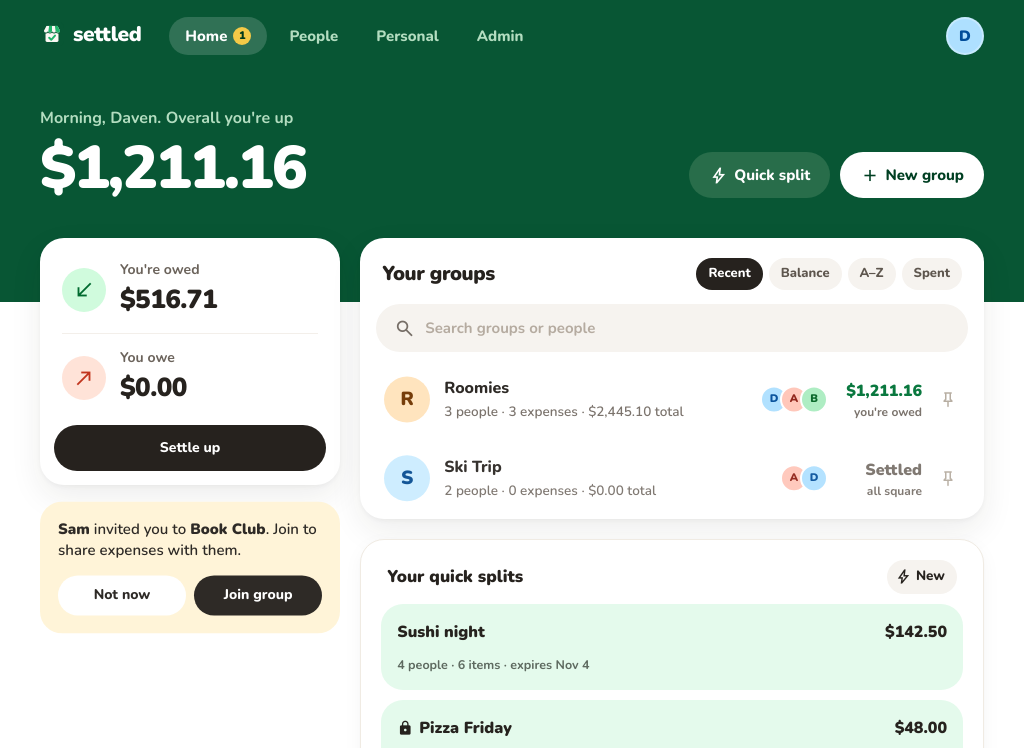
it: signed in: from Home to a saved expense › opens a group, adds an expense split with everyone, saves it, and sees it in the list and the total
Check: the heading "Morning, Daven. Overall you're up" is shown, box [40,106,306,130]
Click the button "Roomies" at {"x": 649, "y": 400}, box [370,364,928,435]
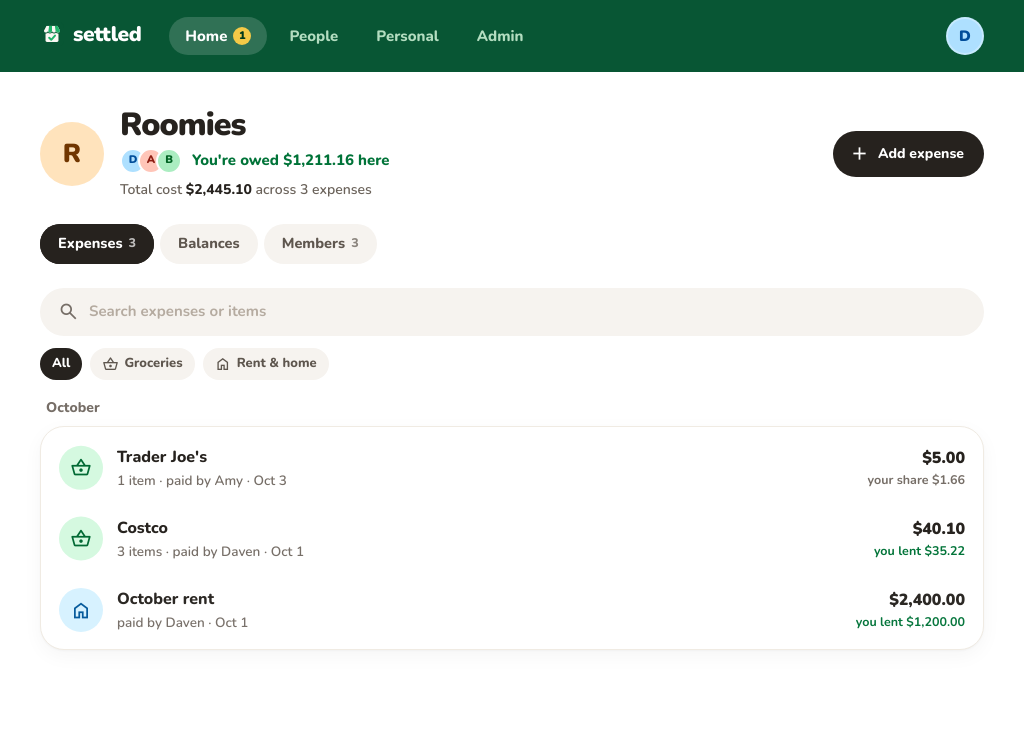
Check: the text "$2,445.10" is shown, box [186,180,252,199]
Check: the heading "Roomies" is shown, box [120,103,246,146]
# Add an expense: it opens as a draft, nothing is in the list yet
Click the button "Add expense" at {"x": 908, "y": 154}, box [833,131,984,177]
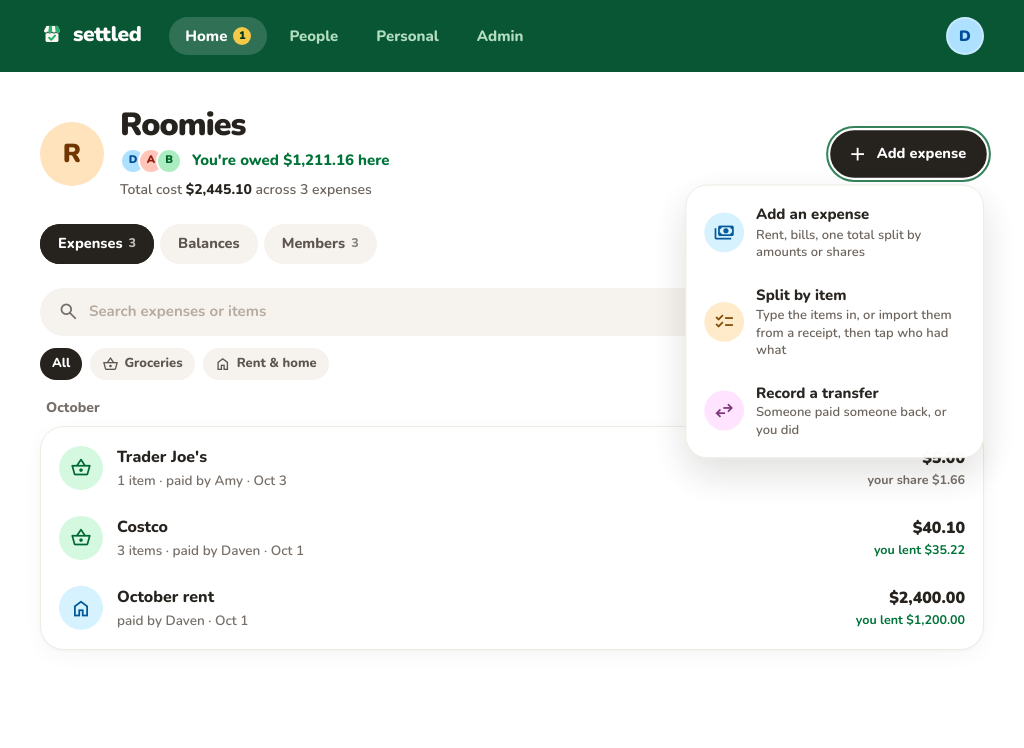
Click the menu item "Add an expense" at {"x": 835, "y": 232}, box [694,193,975,272]
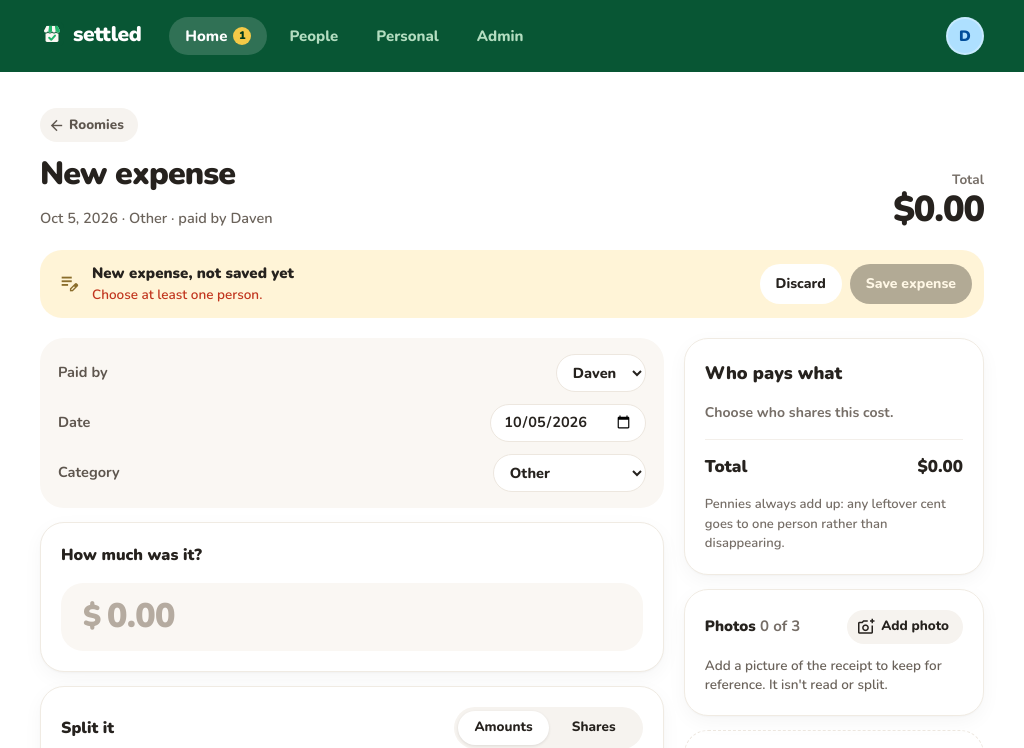
Replace the text in the field named "Expense name" with "Pizza night" at {"x": 260, "y": 175}, box [40,150,480,200]
Type "90" into the field labelled "How much was it?" at {"x": 364, "y": 616}, box [107,591,621,642]
(page scrolled)
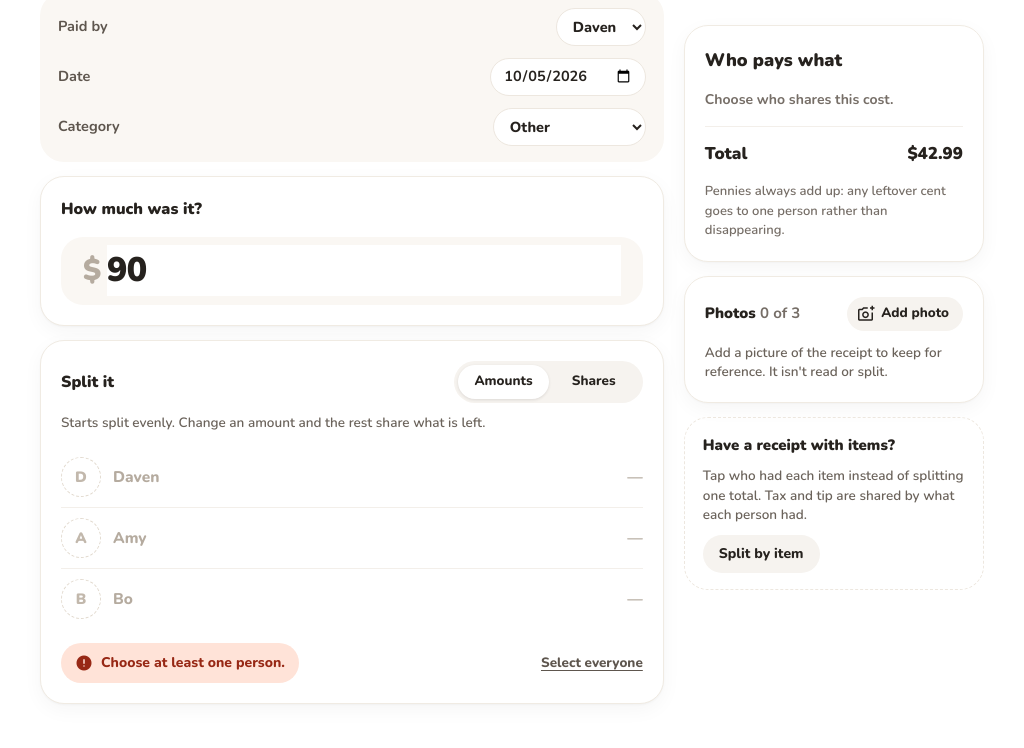
Click the button "Select everyone" at {"x": 592, "y": 663}, box [541,653,643,673]
(page scrolled)
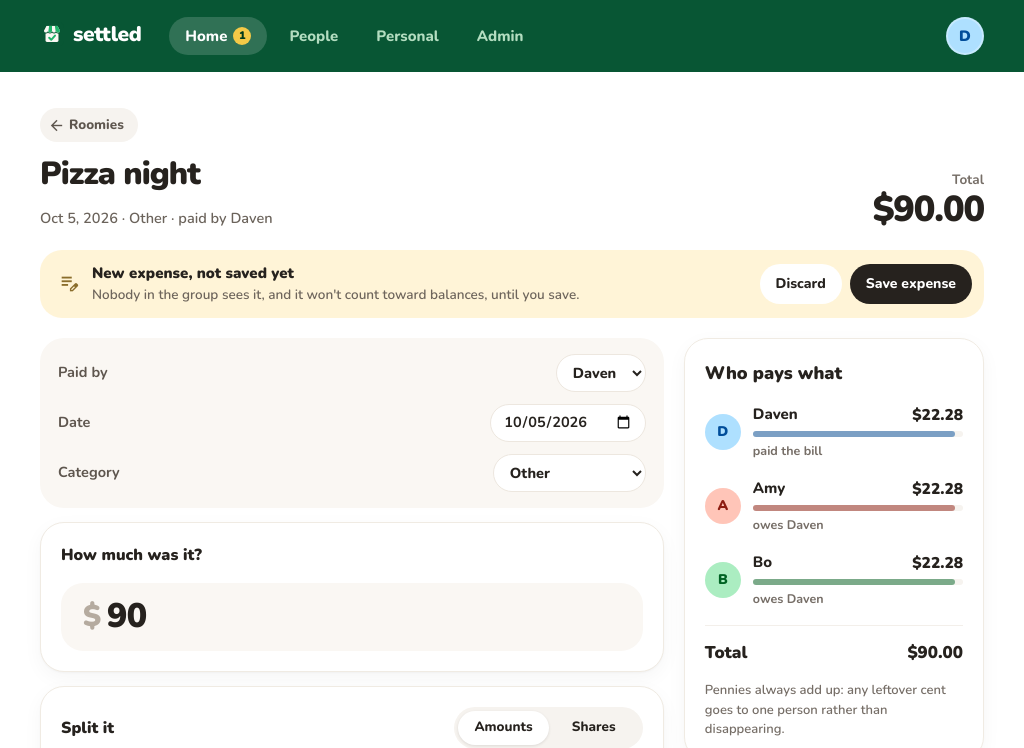
# Save publishes it and returns to the group
Click the button "Save expense" at {"x": 911, "y": 284}, box [850,264,972,304]
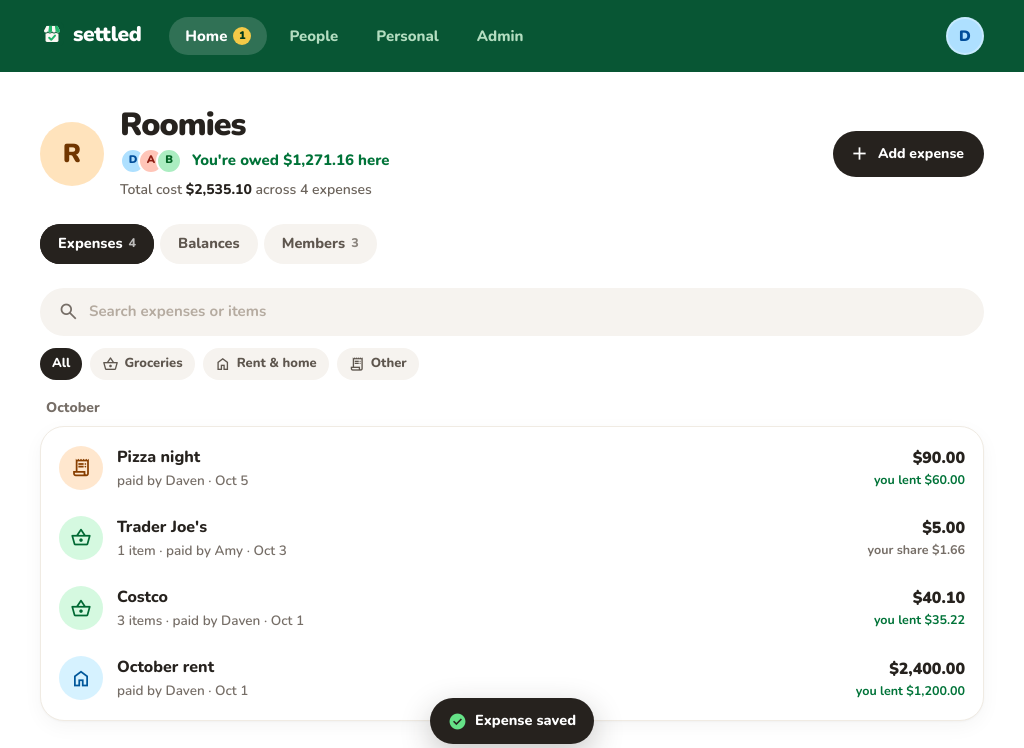
Check: the heading "Roomies" is shown, box [120,103,246,146]
Check: the text "$90.00" is shown, box [913,446,965,470]
Check: the text "$2,535.10" is shown, box [186,180,252,199]
